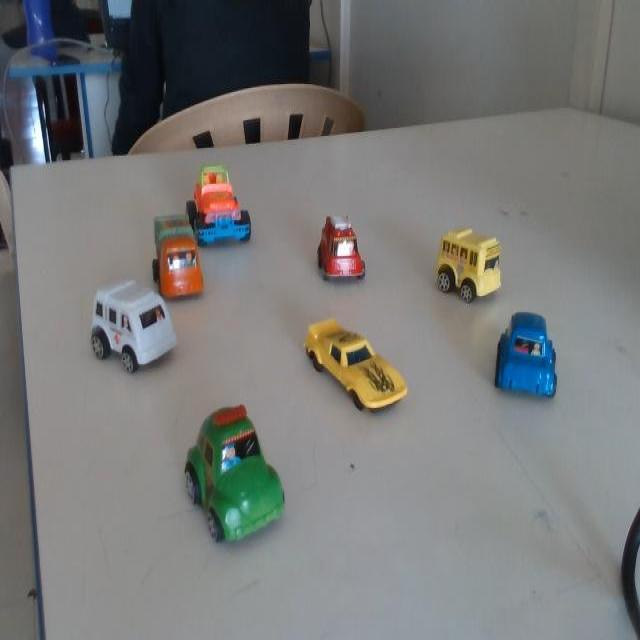car: (174, 405, 289, 543), (87, 268, 179, 382), (303, 318, 404, 411), (492, 310, 564, 404), (190, 156, 262, 247), (149, 206, 206, 306), (427, 228, 497, 308), (307, 208, 367, 294)
